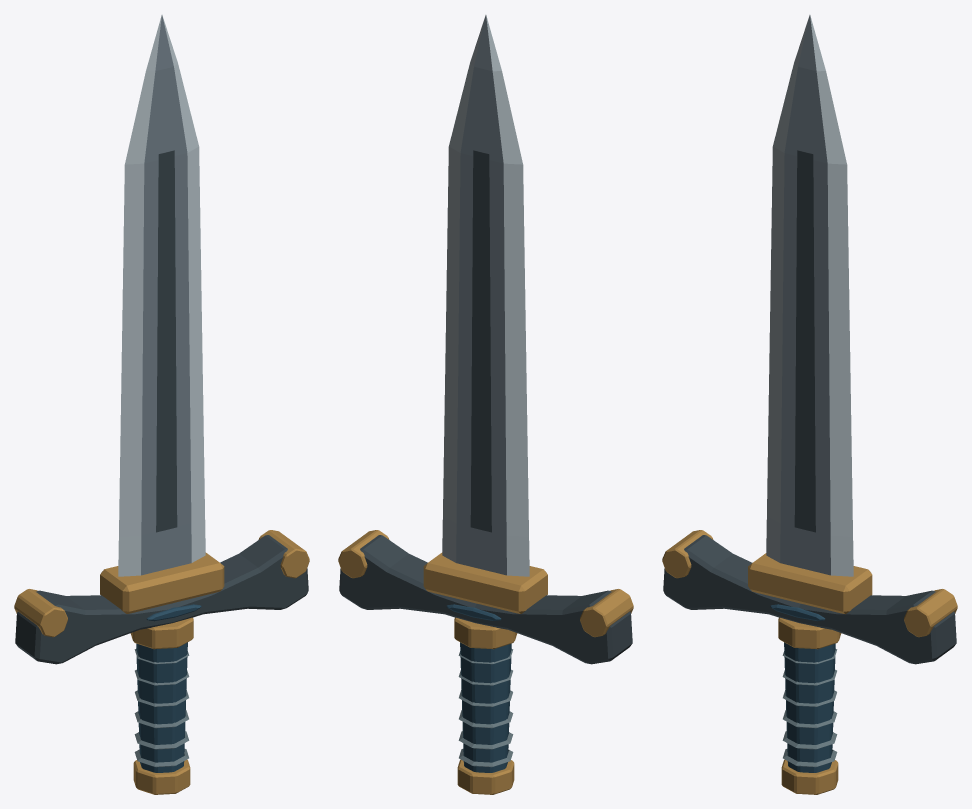
Rendered from sword_guardian_ai_1.glb.
3 views of the same model, side by side, from view 1: azimuth 30°, elevation 25°; view 2: azimuth 150°, elevation 25°; view 3: azimuth 330°, elevation 25° (orthographic).
Visible parts, largest first — view 1: GuardianSword_Mesh; view 2: GuardianSword_Mesh; view 3: GuardianSword_Mesh.
Boxes of the visible parts, left/top/right/bottom form: GuardianSword_Mesh: left=14, top=15, right=309, bottom=794; GuardianSword_Mesh: left=338, top=15, right=633, bottom=794; GuardianSword_Mesh: left=662, top=15, right=957, bottom=794.
Bounding box in the file's own units: 0.649 × 1.74 × 0.1329.
